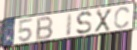5: (18, 17, 34, 43)
B: (35, 15, 55, 42)
C: (113, 6, 132, 30)
I: (65, 12, 74, 38)
S: (75, 11, 93, 36)
X: (94, 8, 113, 34)
